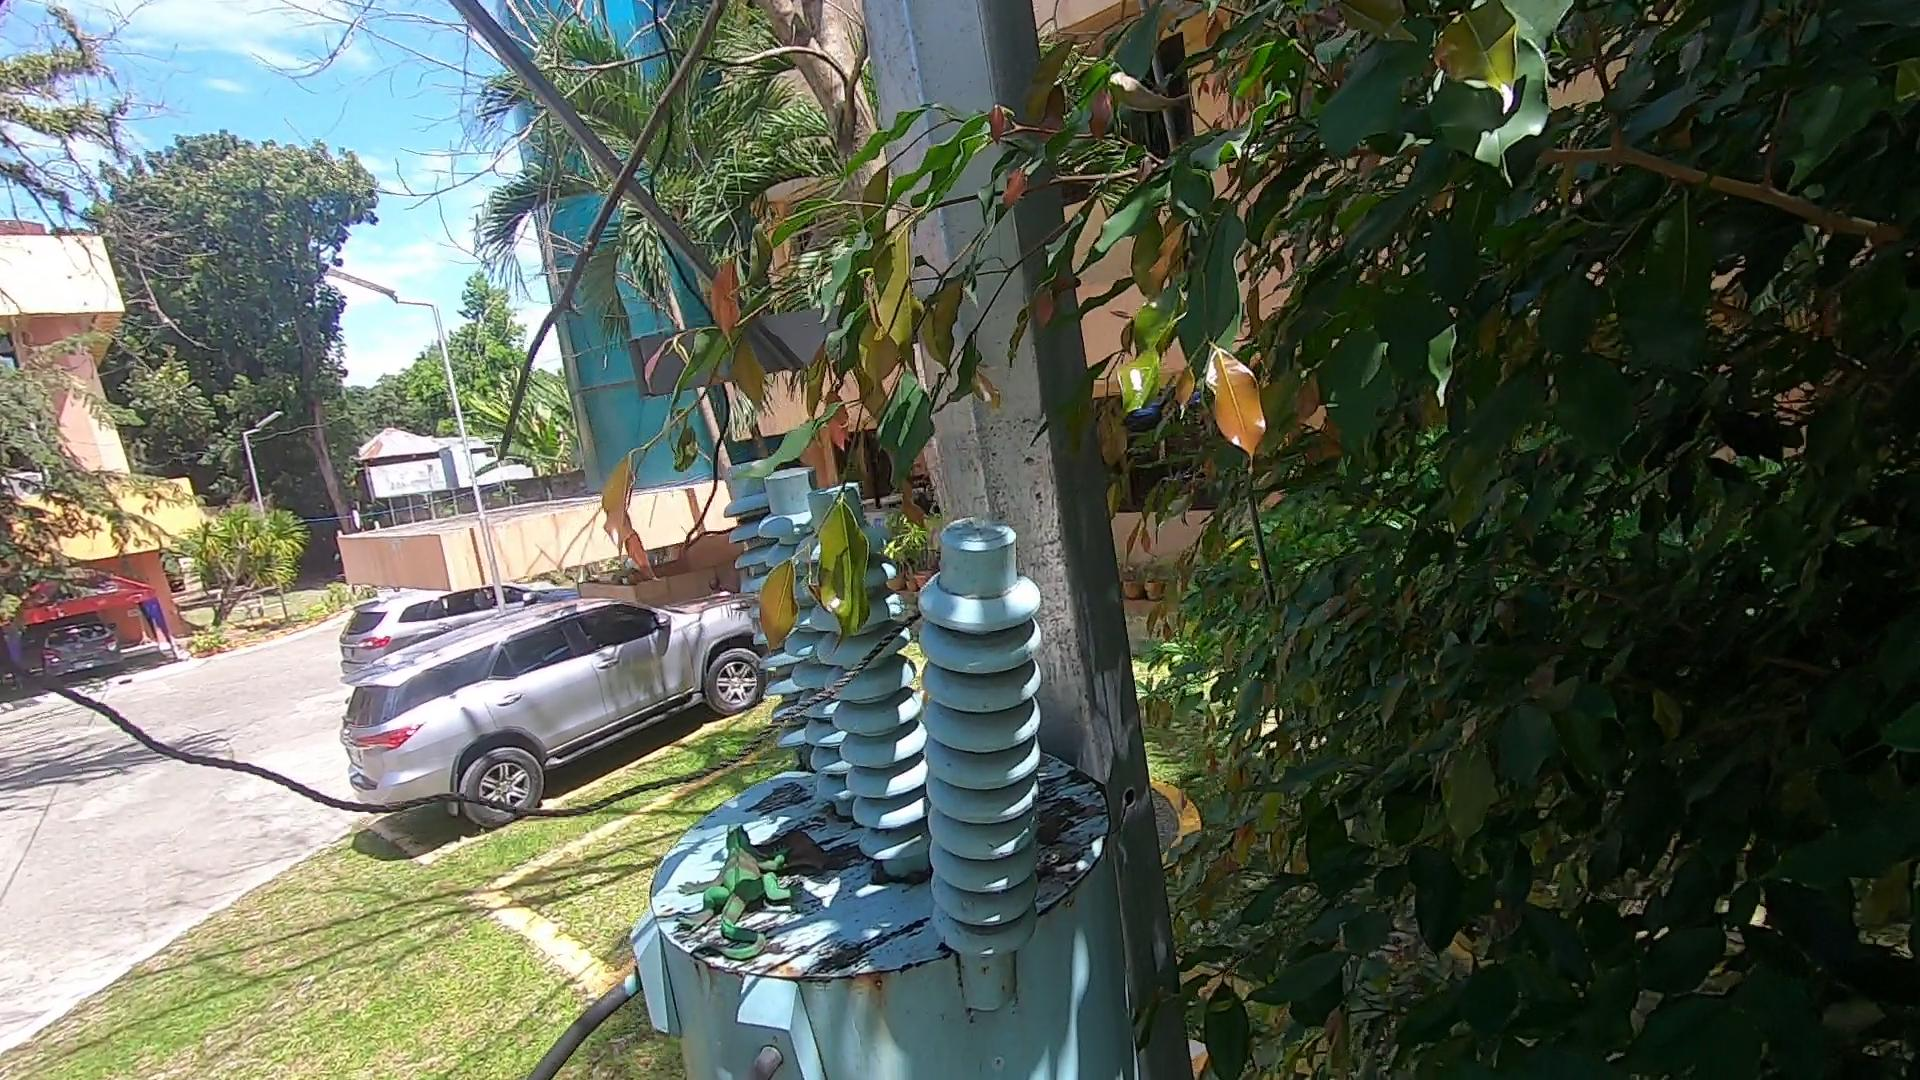leaf: (758, 827, 847, 880)
tree branch: (433, 1, 818, 473)
